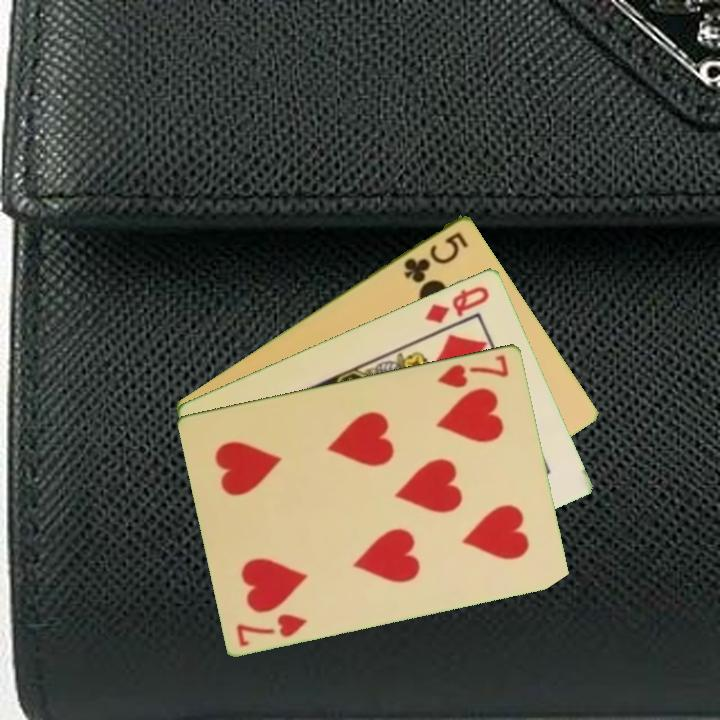5c: (400, 227, 471, 286)
7h: (433, 350, 512, 391), (233, 609, 311, 649)
Qd: (421, 282, 493, 326)
